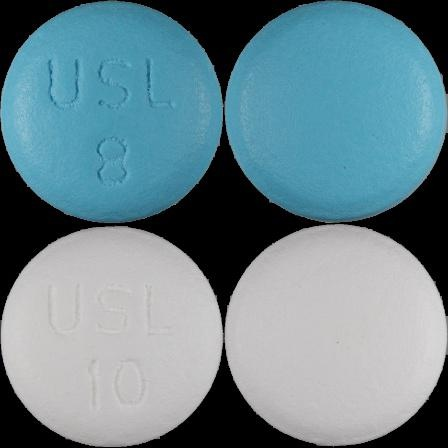0781-1516: (0, 0, 224, 224)
